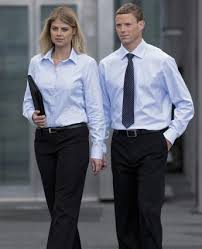F_W_pants: (36, 120, 90, 249)
F_belt: (30, 123, 90, 133), (111, 126, 163, 137)
F_dress pants: (109, 127, 169, 247)
F_shirt: (99, 37, 199, 144), (14, 46, 110, 135)
F_tie: (121, 48, 136, 128)
